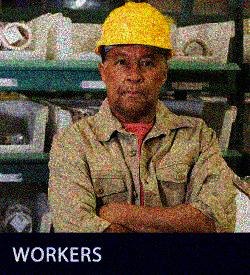helmet: (94, 2, 176, 116)
